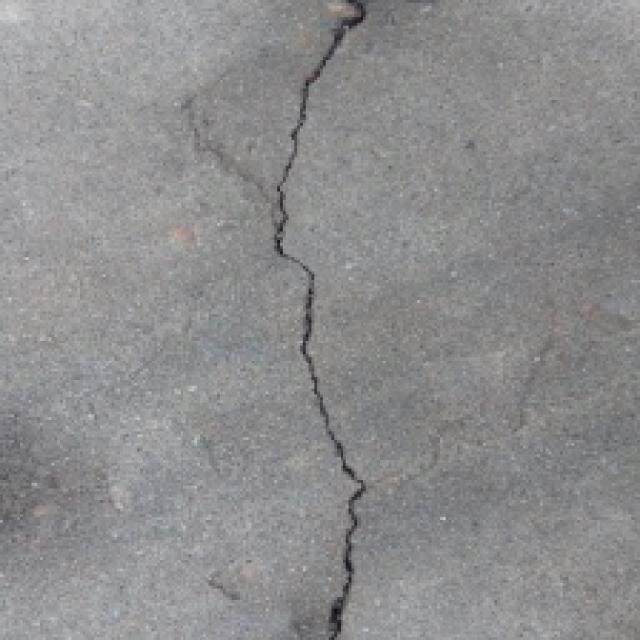crack: (238, 0, 392, 640)
